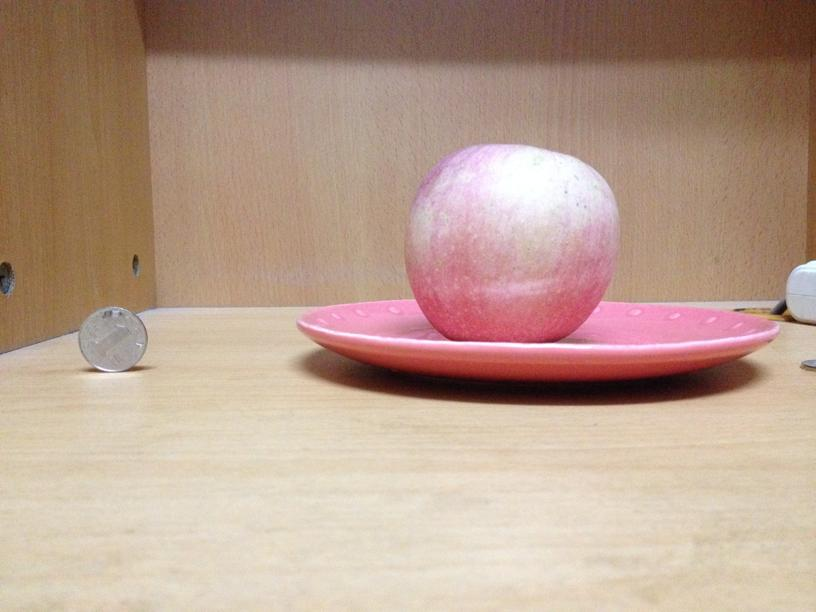apple: (398, 144, 617, 341)
coin: (75, 308, 147, 372)
